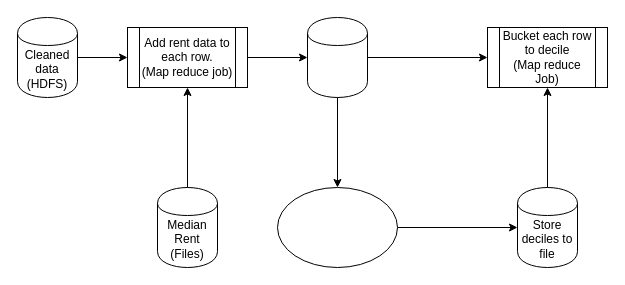
The diagram is 625 pixels wide and 285 high, and some of its shapes have lost their labels. Here are the shapes that lost their labels. From the top down, the centre of each, then its label:
At point (337, 57): "Merged Data (HDFS)".
At point (337, 227): "Find pickup and dropoff deciles (Spark Job)".
